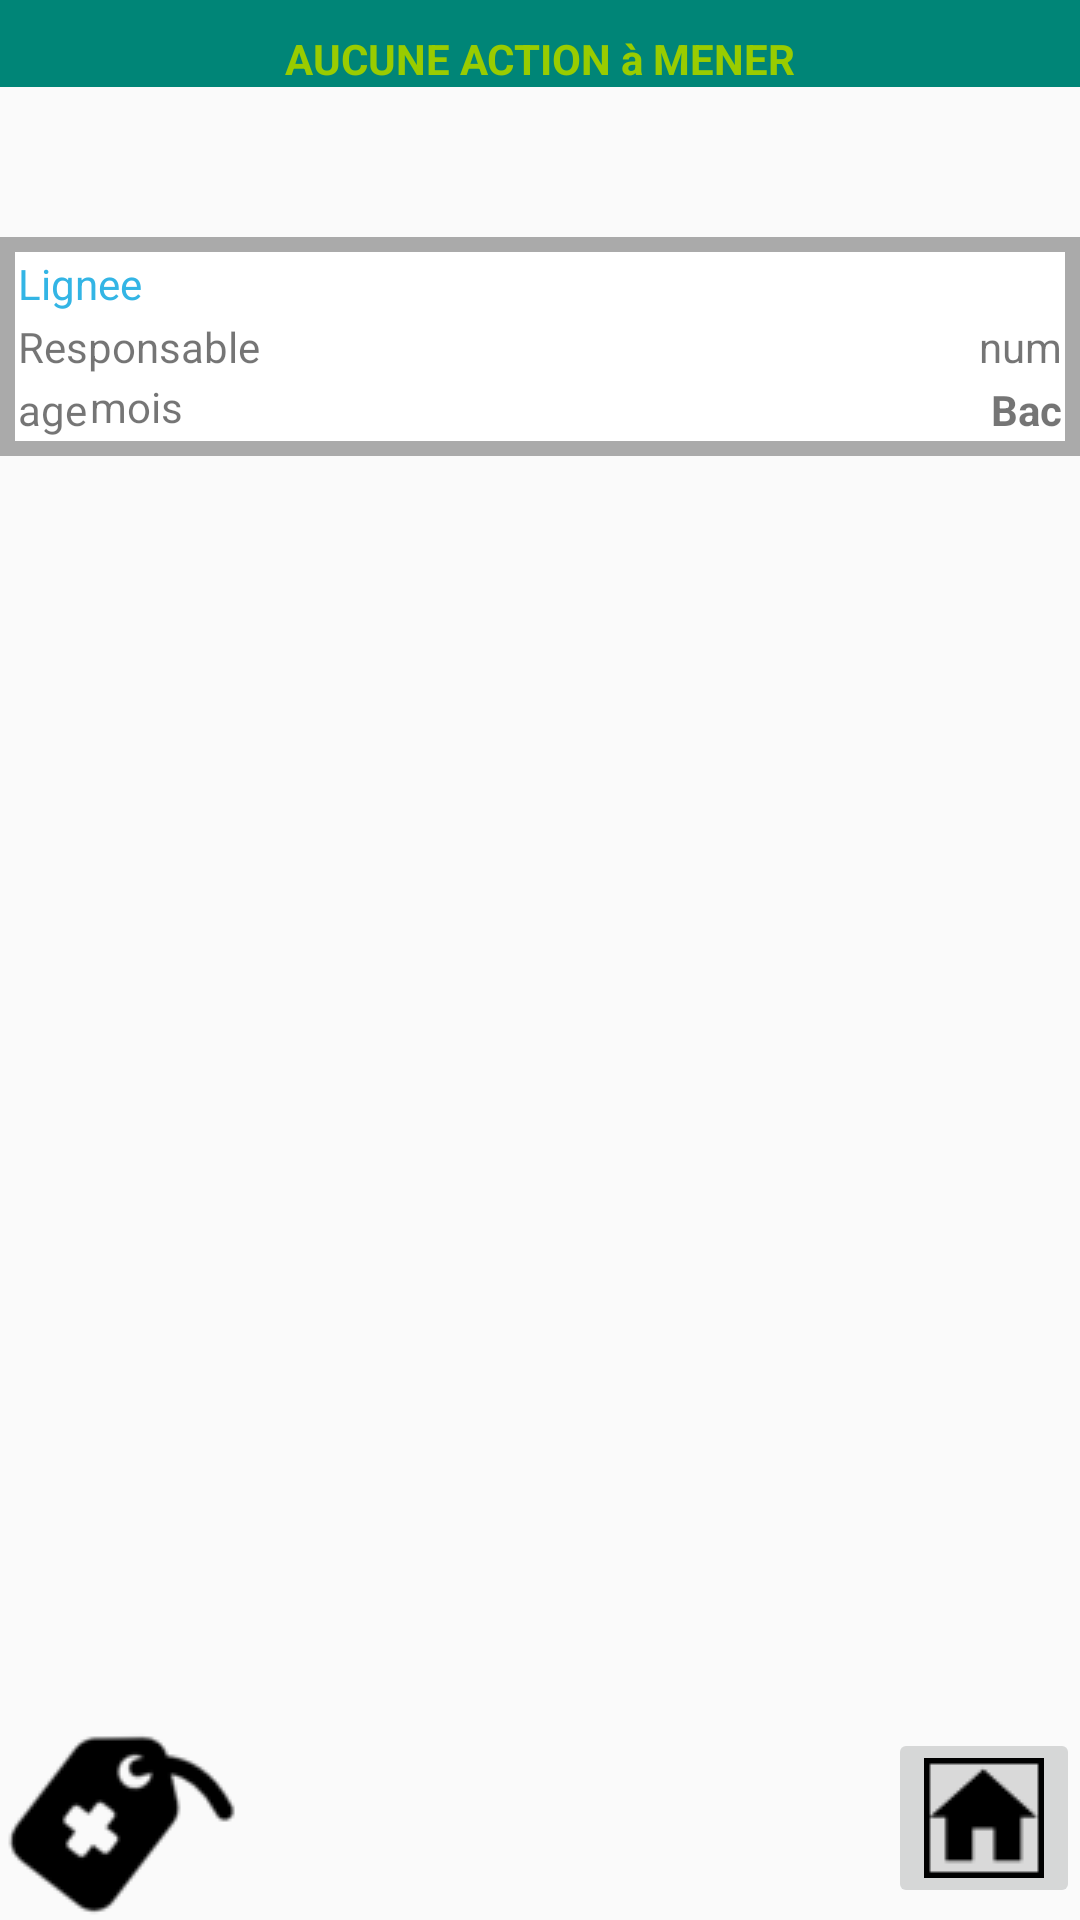

Where icons sit on this 1080 x 1920 app screen, as box=[x1, y1, x2, y2]:
home: box=[900, 1746, 1068, 1890]
tag: box=[9, 1736, 235, 1912]
